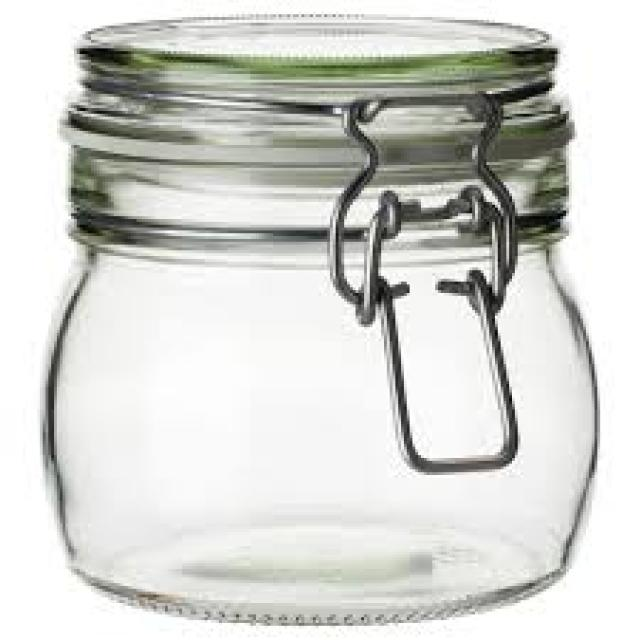Anorganik: (48, 11, 598, 623)
